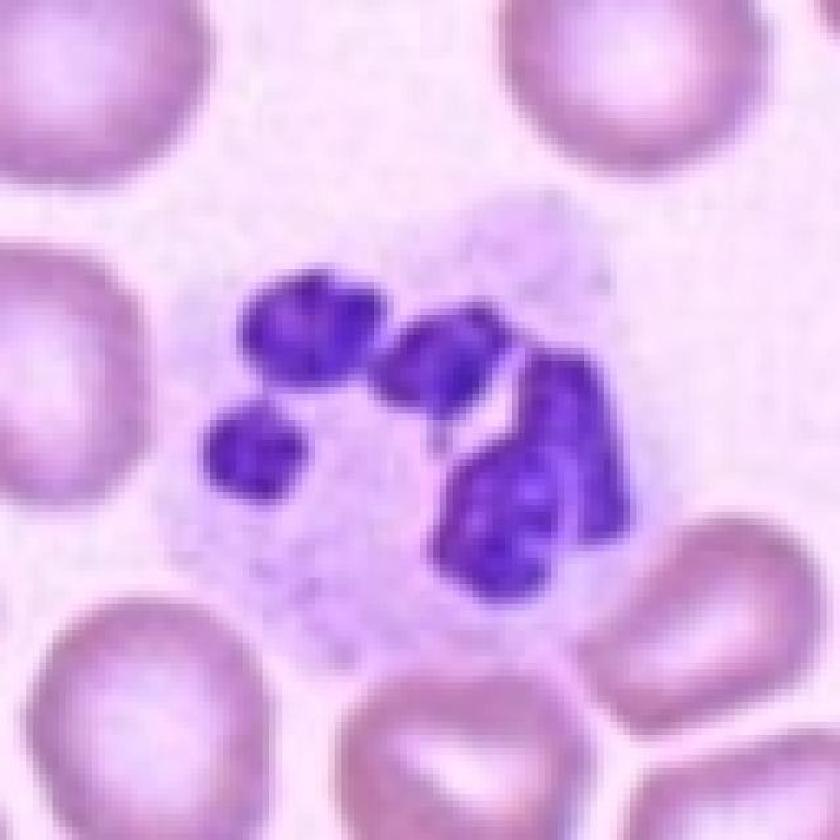neutrophil: (202, 131, 665, 788)
